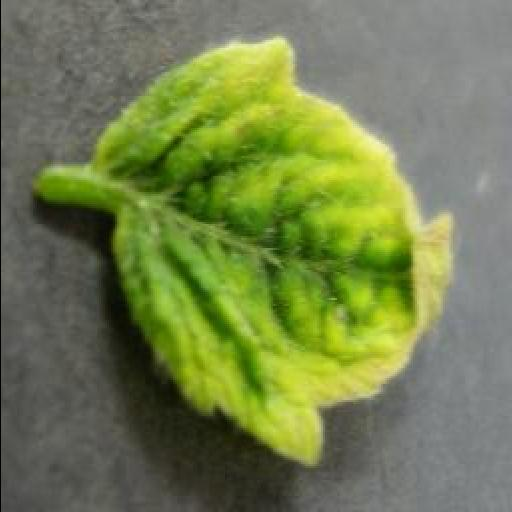disease_tomato: (90, 36, 454, 468)
